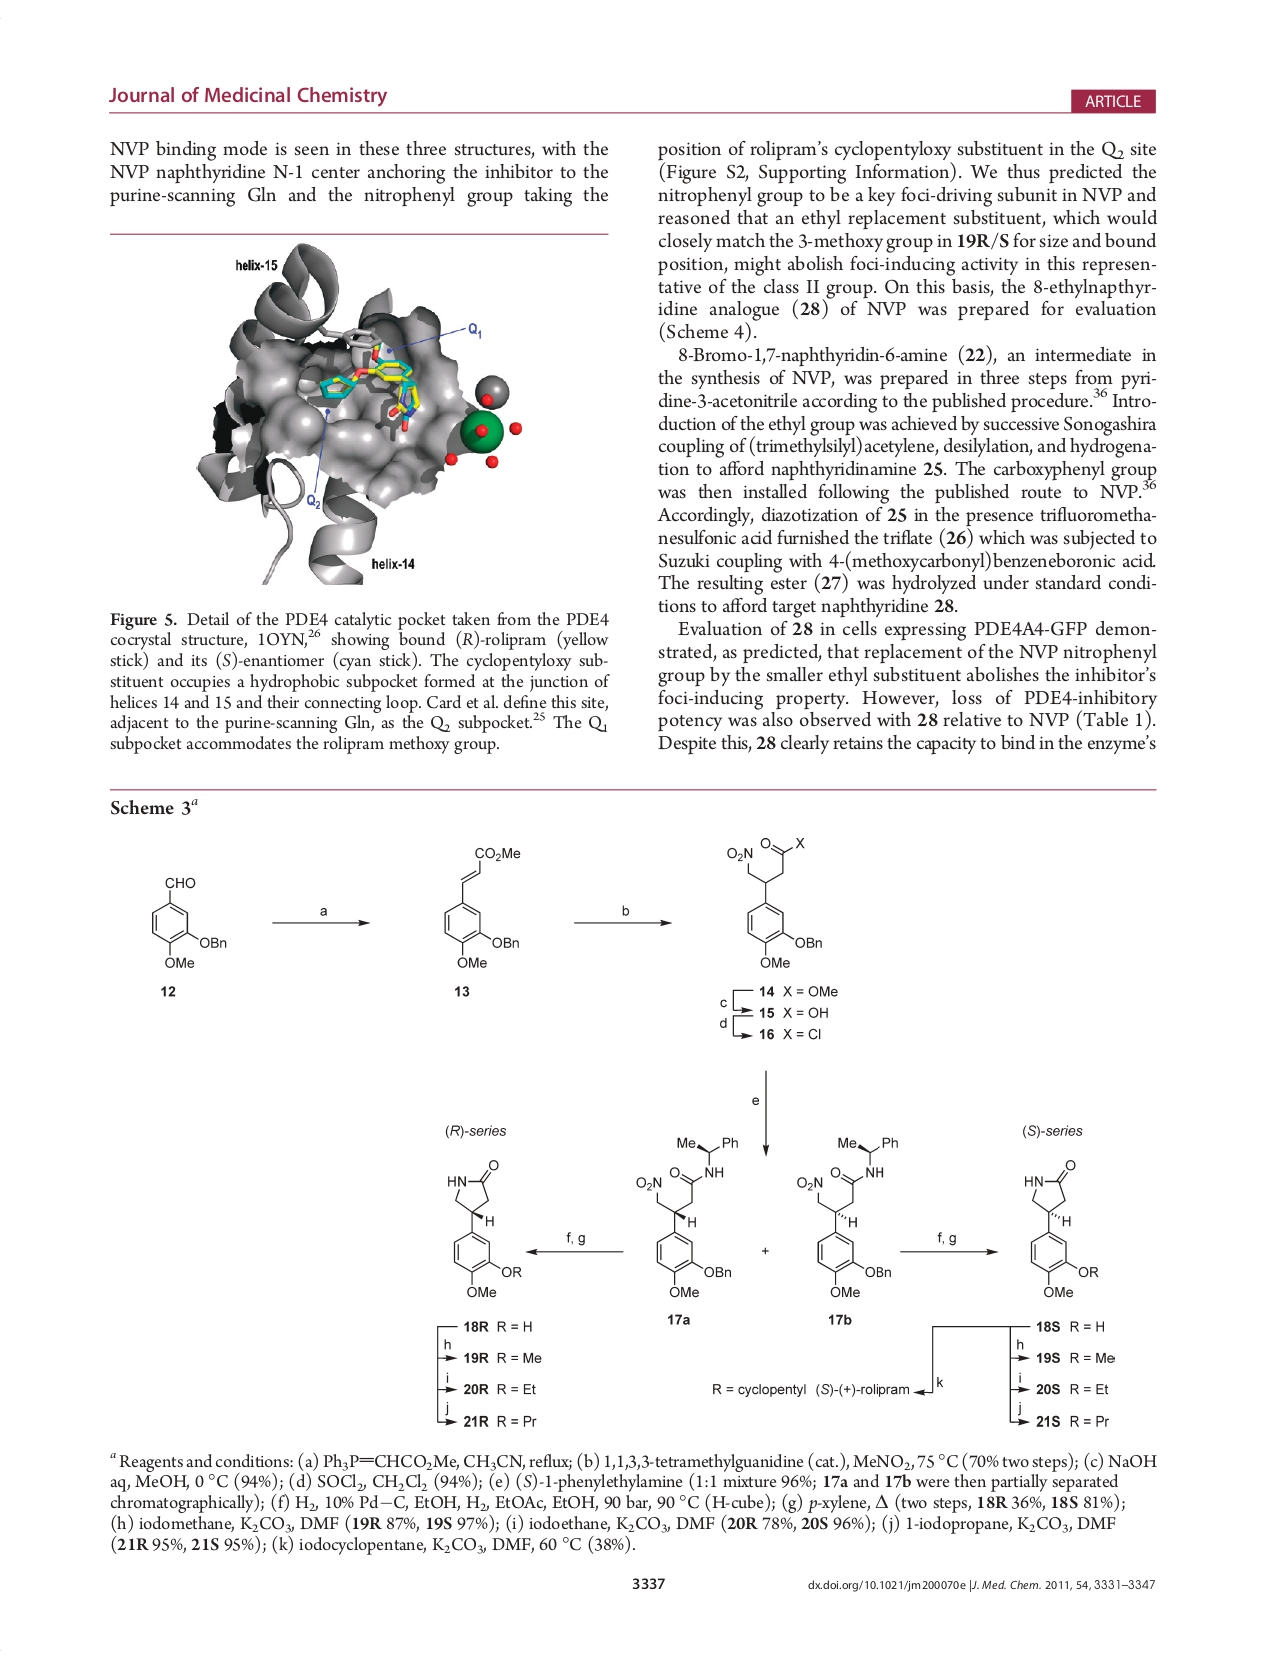exist_molecular: (790, 1133, 904, 1303), (634, 1130, 742, 1303), (723, 829, 826, 972), (442, 1156, 527, 1303), (1016, 1154, 1101, 1301), (438, 842, 531, 973), (144, 868, 235, 977)
